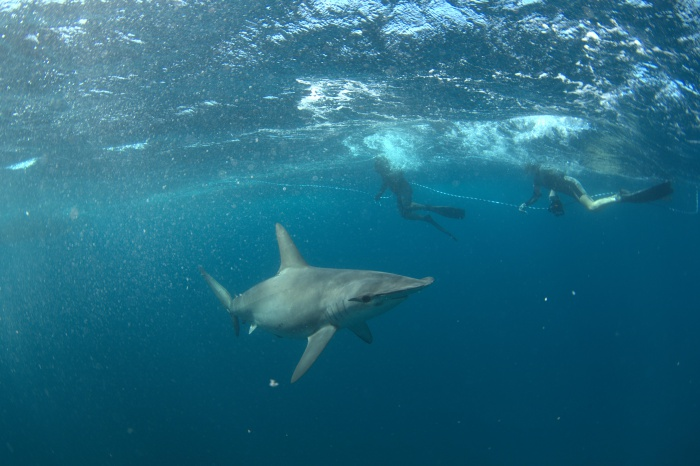Hammer: (193, 200, 453, 392)
